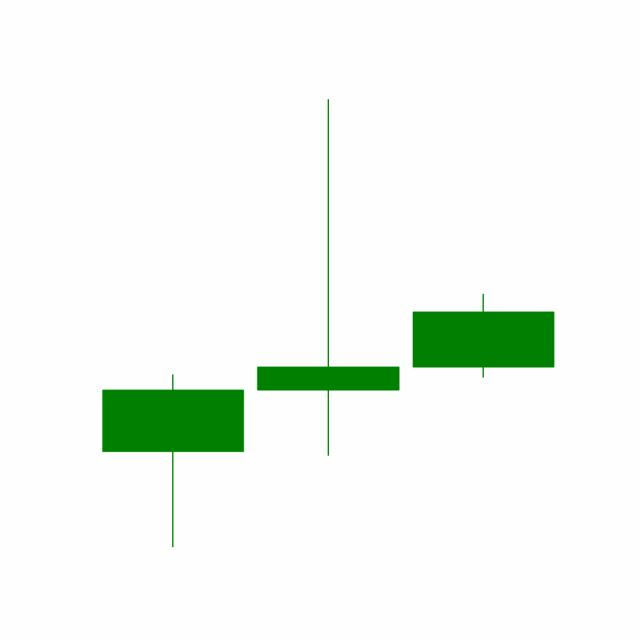Marubozu: (405, 292, 561, 378)
